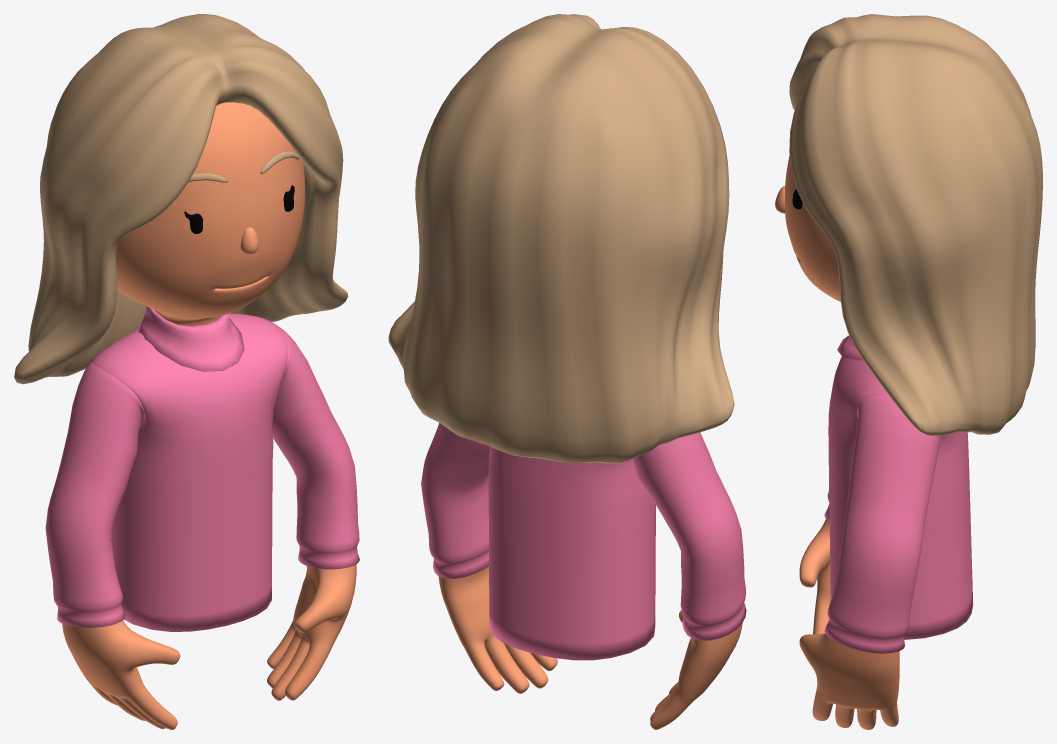
3 renders of one model, left to right at view 1: azimuth 30°, elevation 25°; view 2: azimuth 150°, elevation 25°; view 3: azimuth 270°, elevation 25°, orthographic. The views are drawn at different scales.
Visible parts, largest first — view 1: female_turtelneck, Hair_11.001, head, body, Eyebrow.001; view 2: Hair_11.001, female_turtelneck, body; view 3: Hair_11.001, female_turtelneck, body, head.
Boxes of the visible parts, x1=… form: female_turtelneck: x1=45, y1=306, x2=359, y2=631; Hair_11.001: x1=14, y1=14, x2=348, y2=384; head: x1=115, y1=102, x2=304, y2=326; body: x1=62, y1=564, x2=356, y2=729; Eyebrow.001: x1=189, y1=151, x2=299, y2=182; Hair_11.001: x1=388, y1=14, x2=734, y2=463; female_turtelneck: x1=421, y1=423, x2=746, y2=660; body: x1=438, y1=566, x2=742, y2=729; Hair_11.001: x1=789, y1=14, x2=1042, y2=435; female_turtelneck: x1=824, y1=335, x2=973, y2=653; body: x1=799, y1=519, x2=899, y2=729; head: x1=785, y1=155, x2=840, y2=301.
Bounding box in the file's own units: 6.91 × 13.25 × 4.82.
